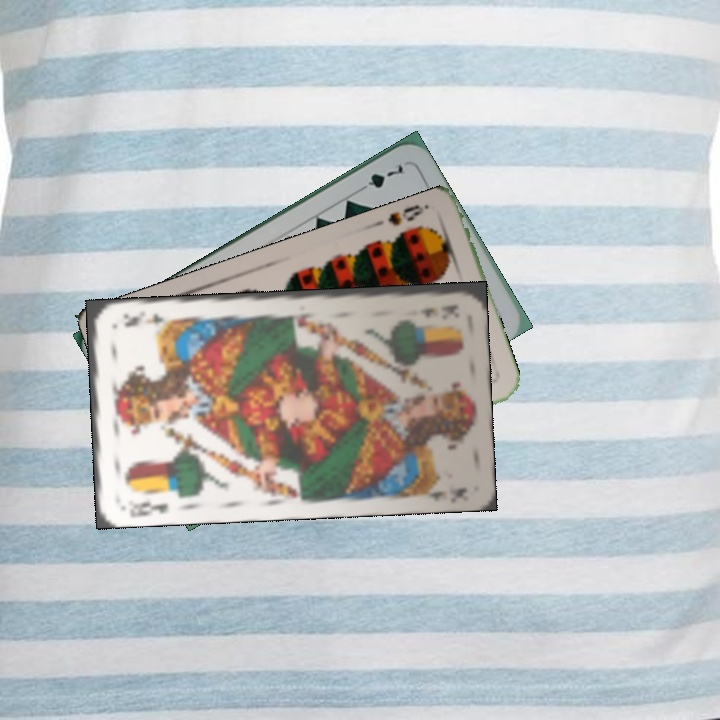EK: (127, 497, 171, 518), (417, 300, 461, 318)
G7: (353, 159, 406, 196)
S8: (383, 201, 432, 228)
